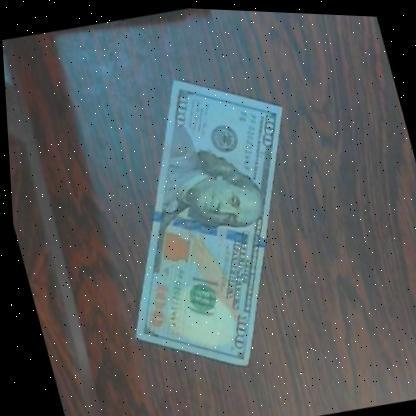one_hundred-front: (62, 52, 343, 390)
